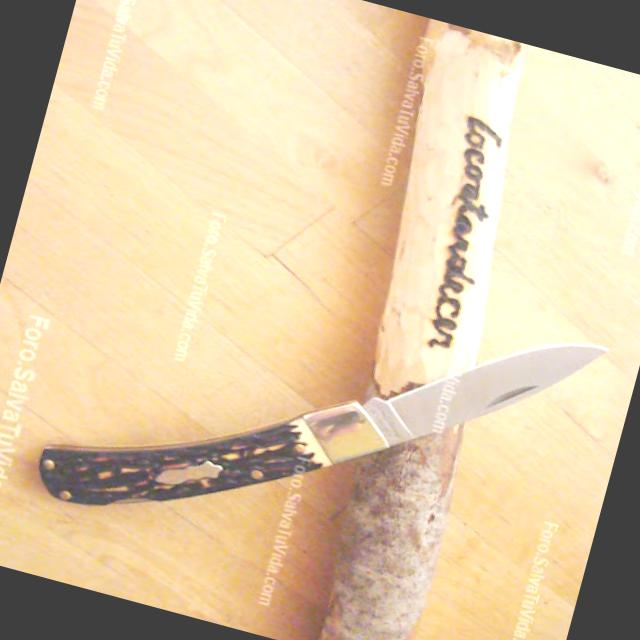knife: (289, 266, 629, 524)
